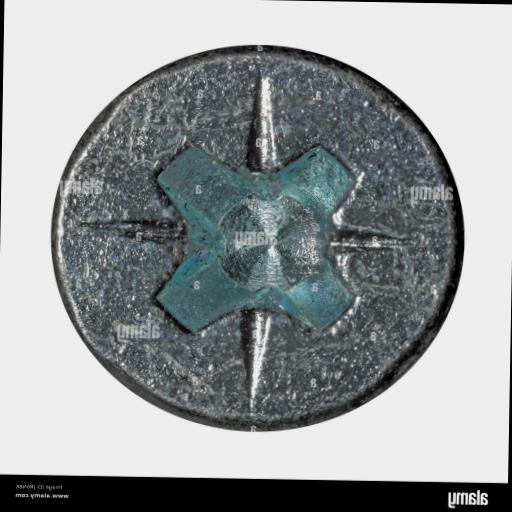Phillips: (55, 42, 462, 432)
